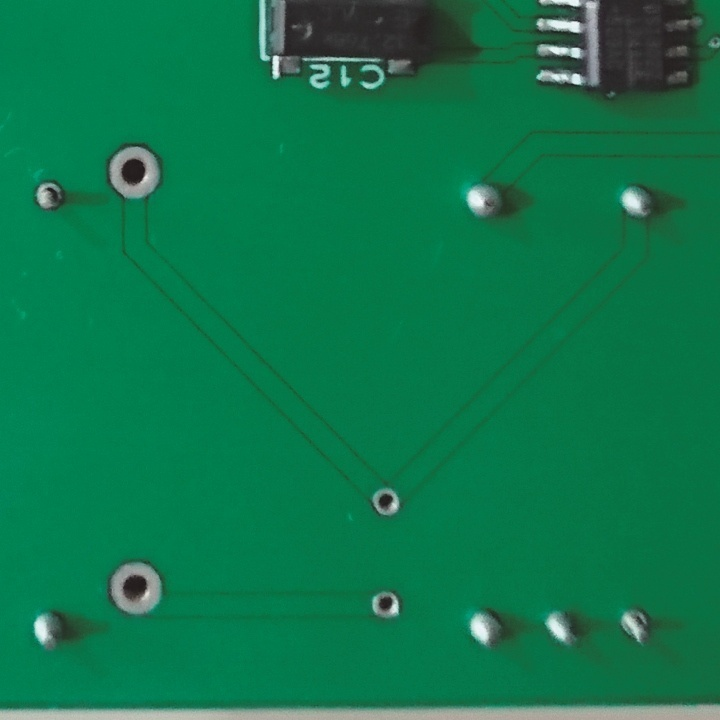F: (105, 561, 174, 615), (105, 144, 162, 203), (616, 604, 652, 647), (370, 482, 403, 518), (372, 584, 404, 619), (34, 180, 67, 212)
